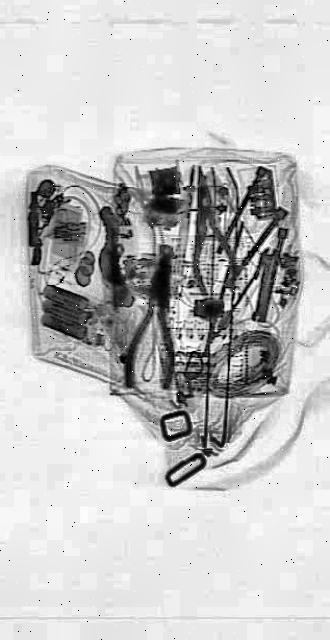Pliers: (125, 236, 191, 406), (180, 156, 240, 304)
